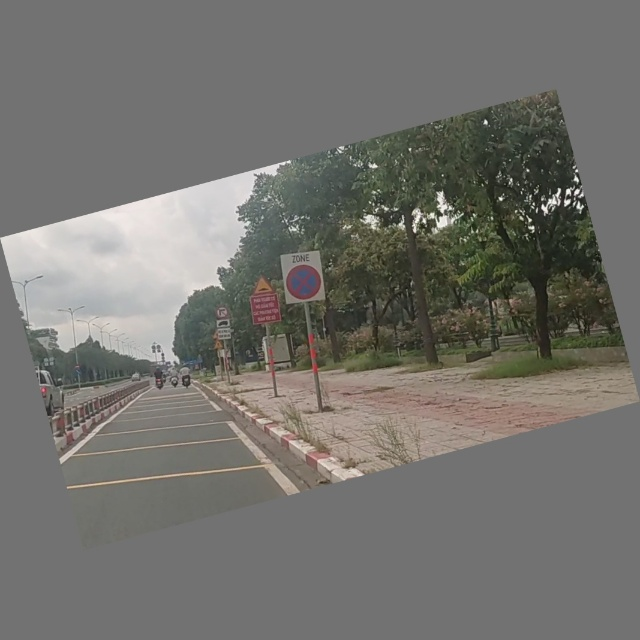P.123b: (214, 305, 230, 321)
P.130: (275, 246, 330, 308)
S.505a*Xe tai: (214, 318, 234, 342)
W.221b: (249, 274, 275, 298)
